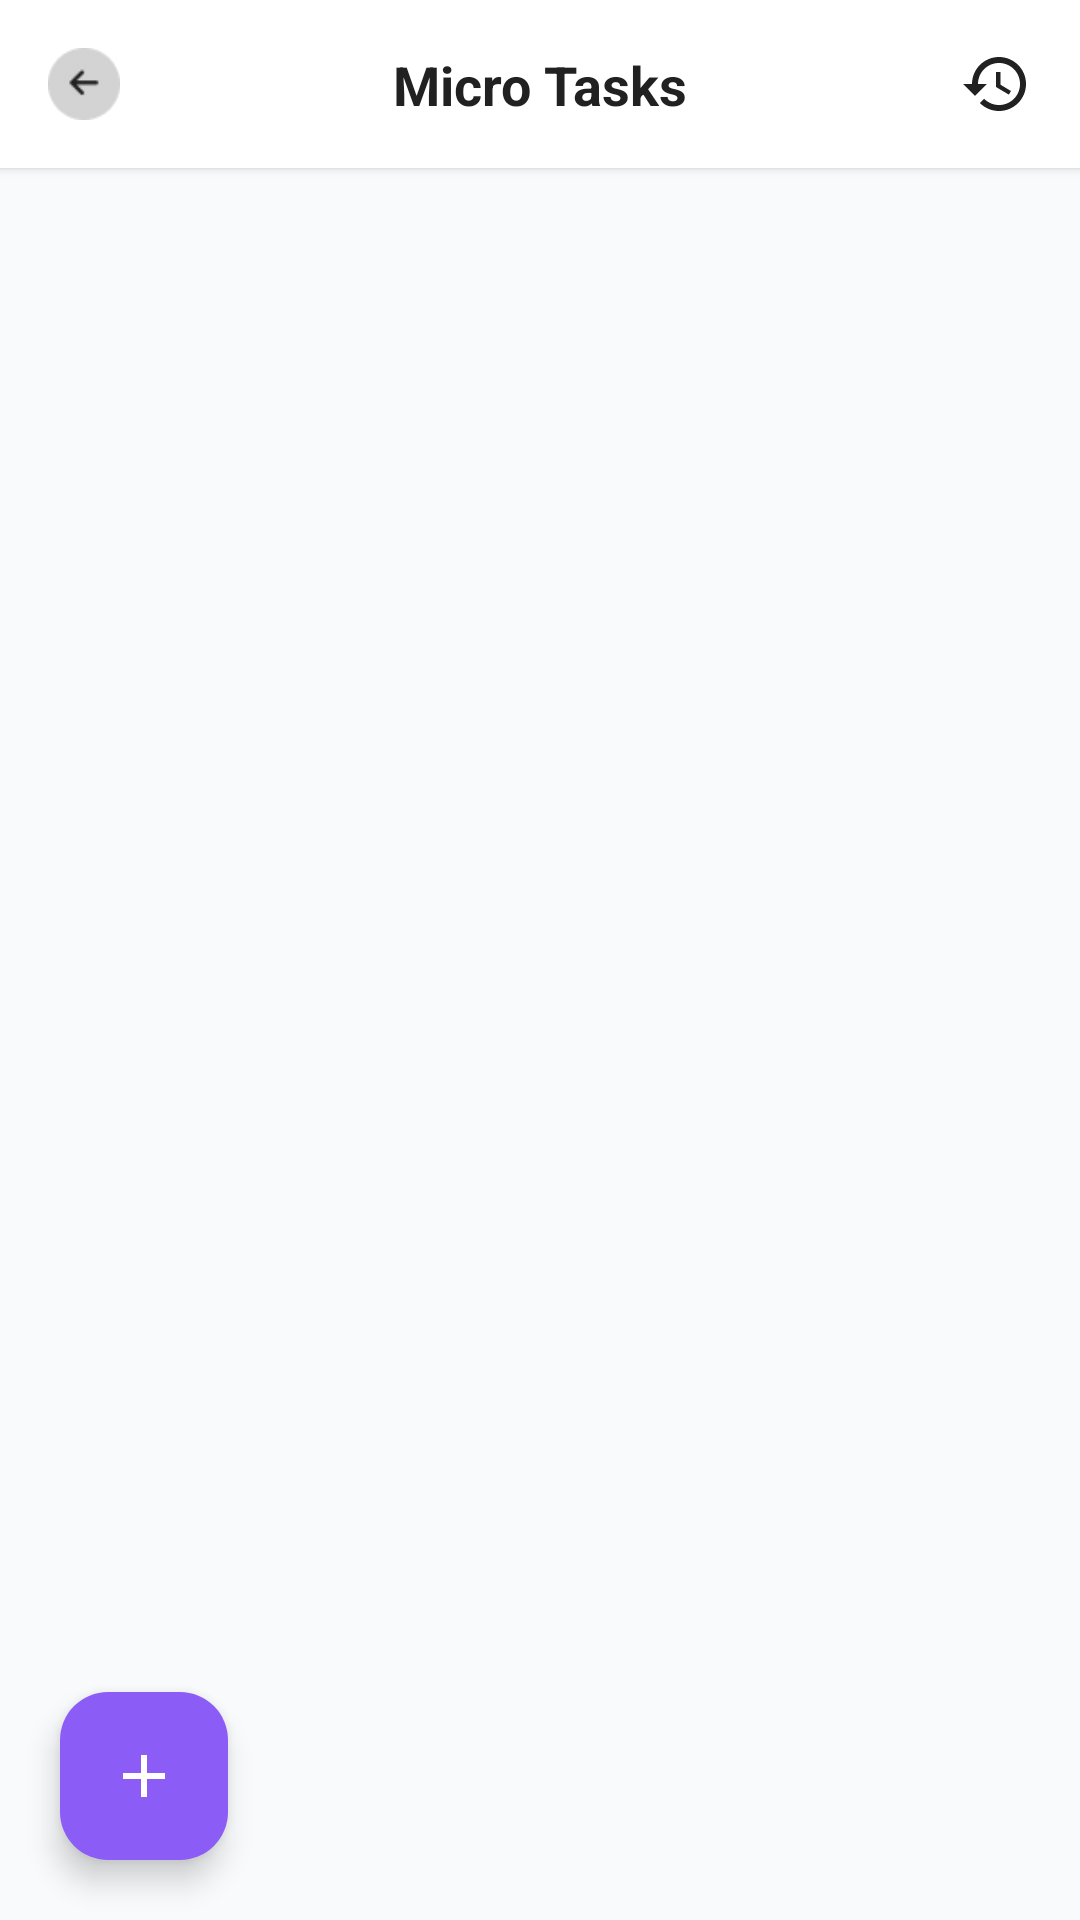

Point at icon controls on the screen. Image size 1080 x 1920, points as [x,y].
Add Task: [144,1776]
back: [84,84]
History: [994,84]
